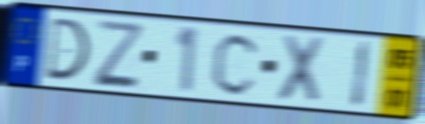1: (173, 24, 200, 96)
C: (209, 30, 263, 98)
D: (42, 15, 92, 82)
I: (348, 37, 374, 112)
X: (273, 31, 329, 108)
Z: (92, 17, 143, 88)
